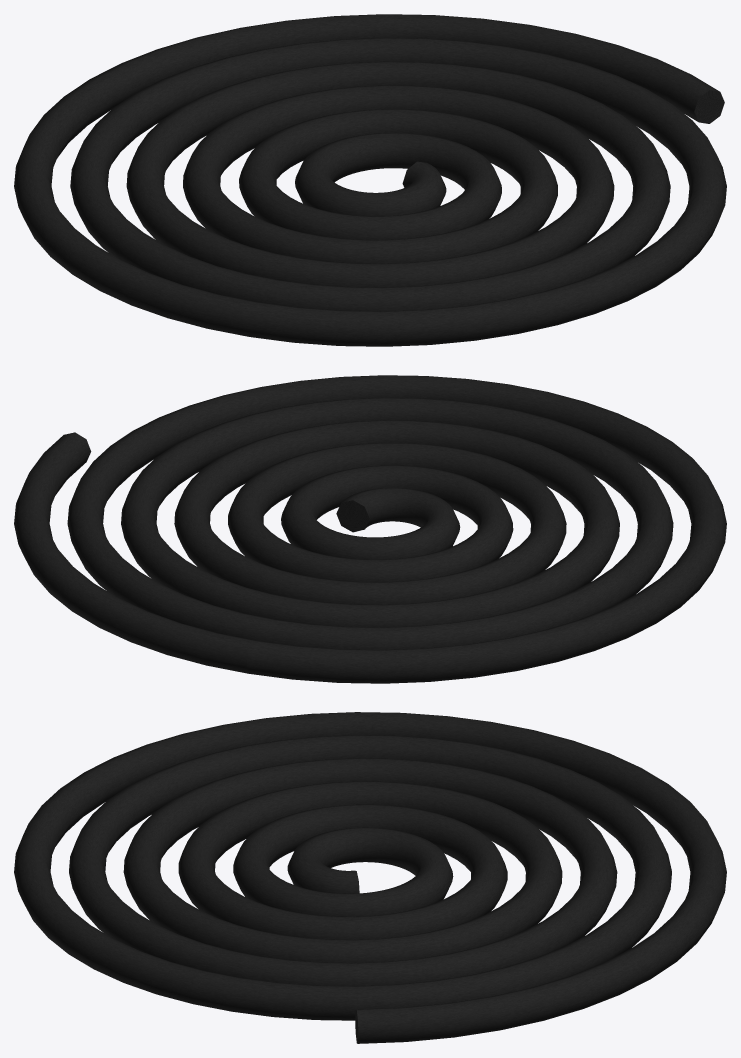
File: round_PIPES.fbx
3 renders of one model, top to bottom at view 1: azimuth 30°, elevation 25°; view 2: azimuth 150°, elevation 25°; view 3: azimuth 270°, elevation 25°, orthographic. The views are drawn at different scales.
Visible parts, largest first — view 1: round_pipes, Spiral.001; view 2: round_pipes, Spiral.001; view 3: round_pipes, Spiral.001.
Part boxes in pixels (box(x1,y1,x2,y2)): round_pipes: box(14, 38, 726, 346); Spiral.001: box(158, 14, 724, 123); round_pipes: box(67, 375, 726, 683); Spiral.001: box(14, 432, 256, 673); round_pipes: box(14, 712, 716, 1020); Spiral.001: box(355, 836, 726, 1043).
Size of the model in its own units: 202 by 10 by 195.
1 material, 1 textured.
